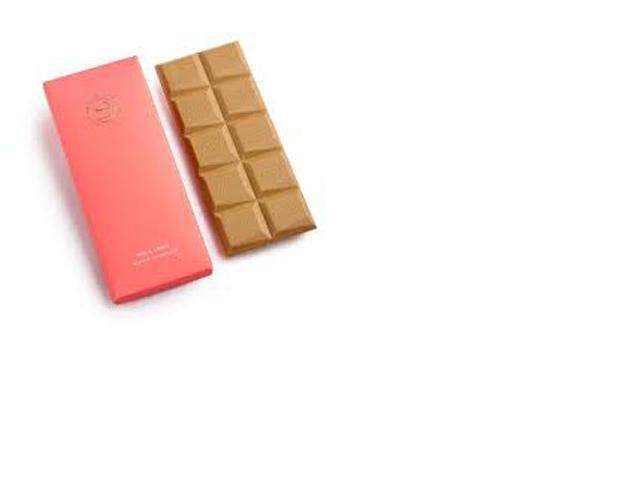chocolate: (143, 36, 314, 267)
